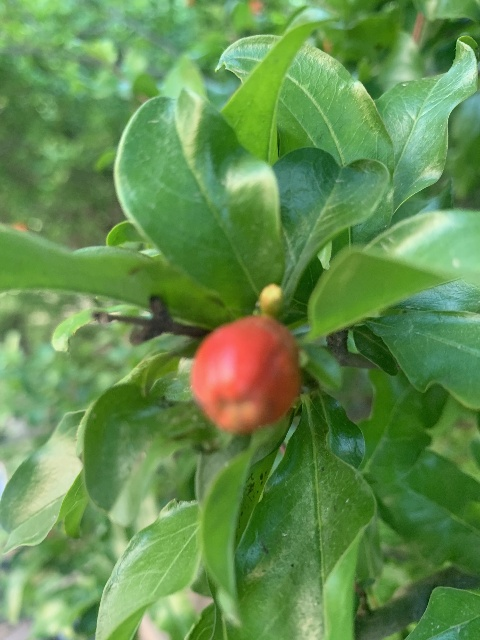bud: (189, 315, 302, 437)
